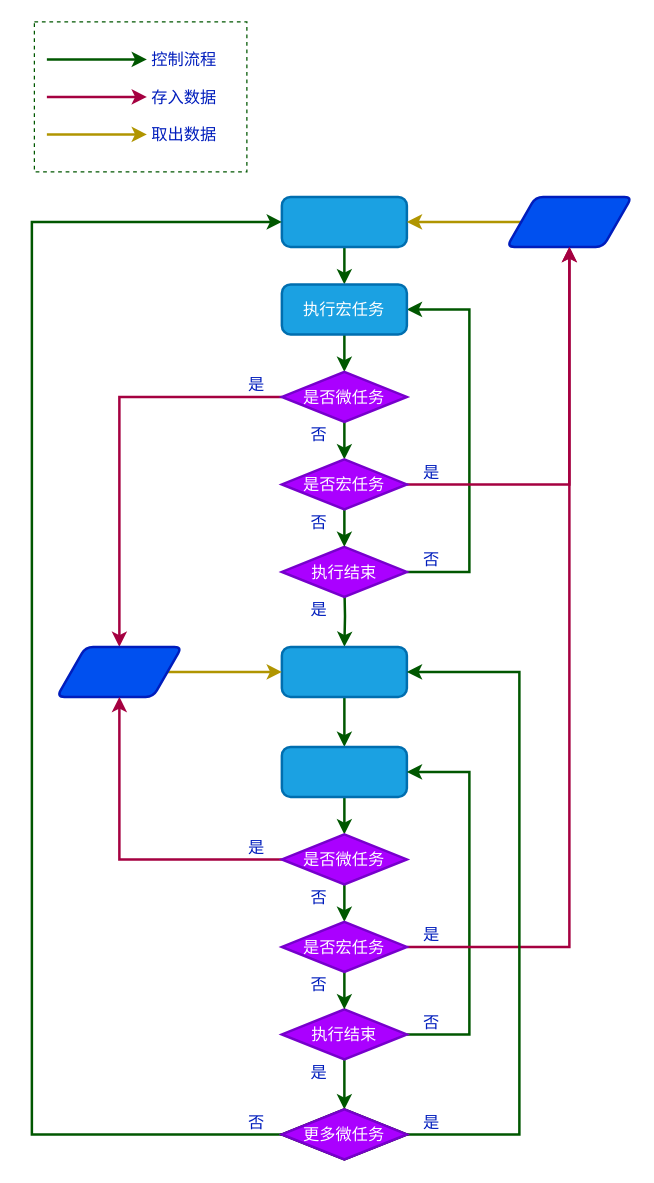
Image size: 654x1183. Some labels were removed from this diagram. The box of each missing label's shape, as (x1, y1, x2, y2) in pixels:
取出宏任务: (280, 195, 408, 248)
取出微任务: (280, 645, 408, 698)
宏任务队列: (505, 195, 632, 248)
微任务队列: (55, 645, 182, 698)
执行微任务: (280, 745, 408, 798)
